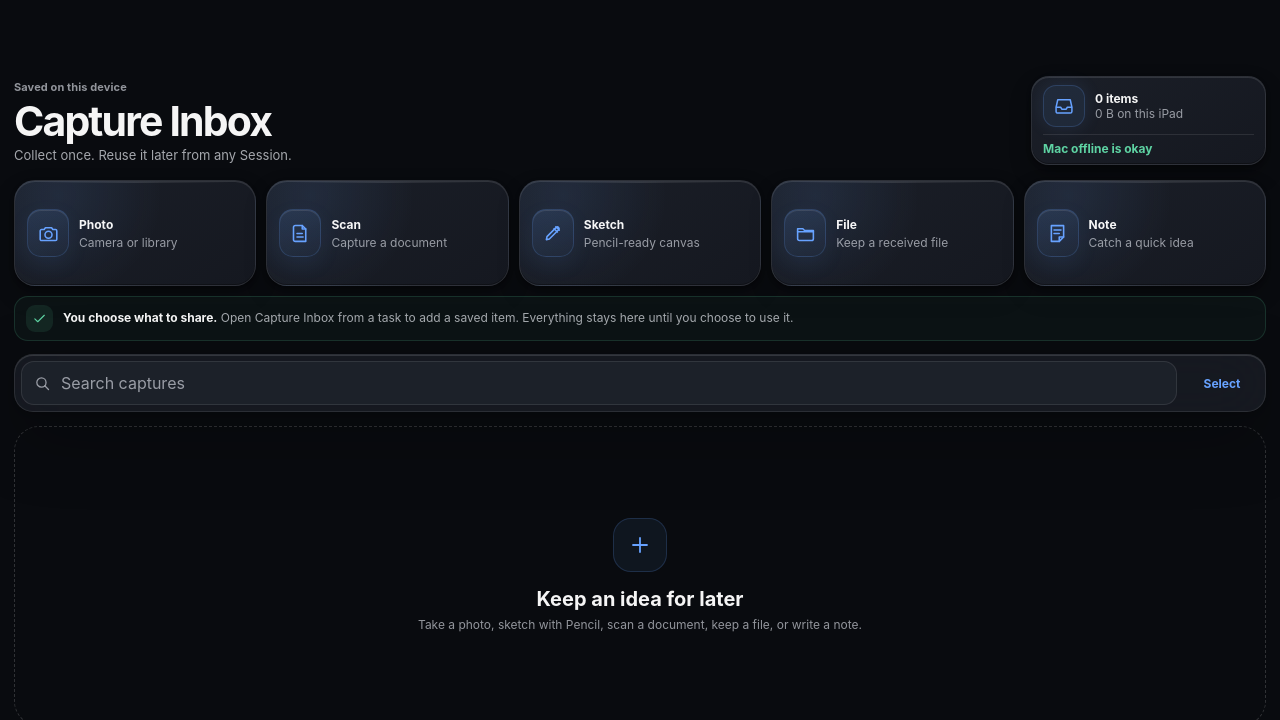
Test: CaptureInboxPage save recovery › shows a note save error inside the dialog and keeps the text for editing and retry
Click the button "Note Catch a quick idea". click: (1145, 233)
box: [1024,180,1266,286]
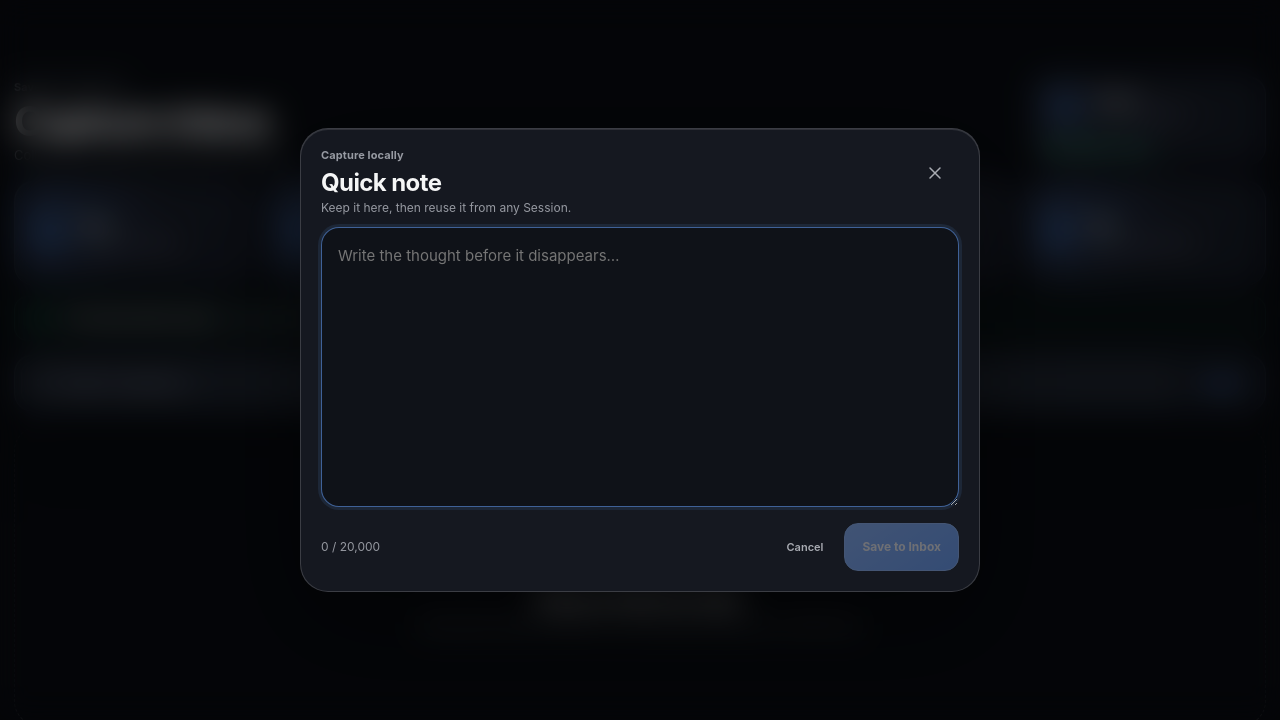
Type "Keep the onboarding comparison for tomorrow." into the text box named "Quick note text". click: (640, 367)
box: [321,227,959,507]
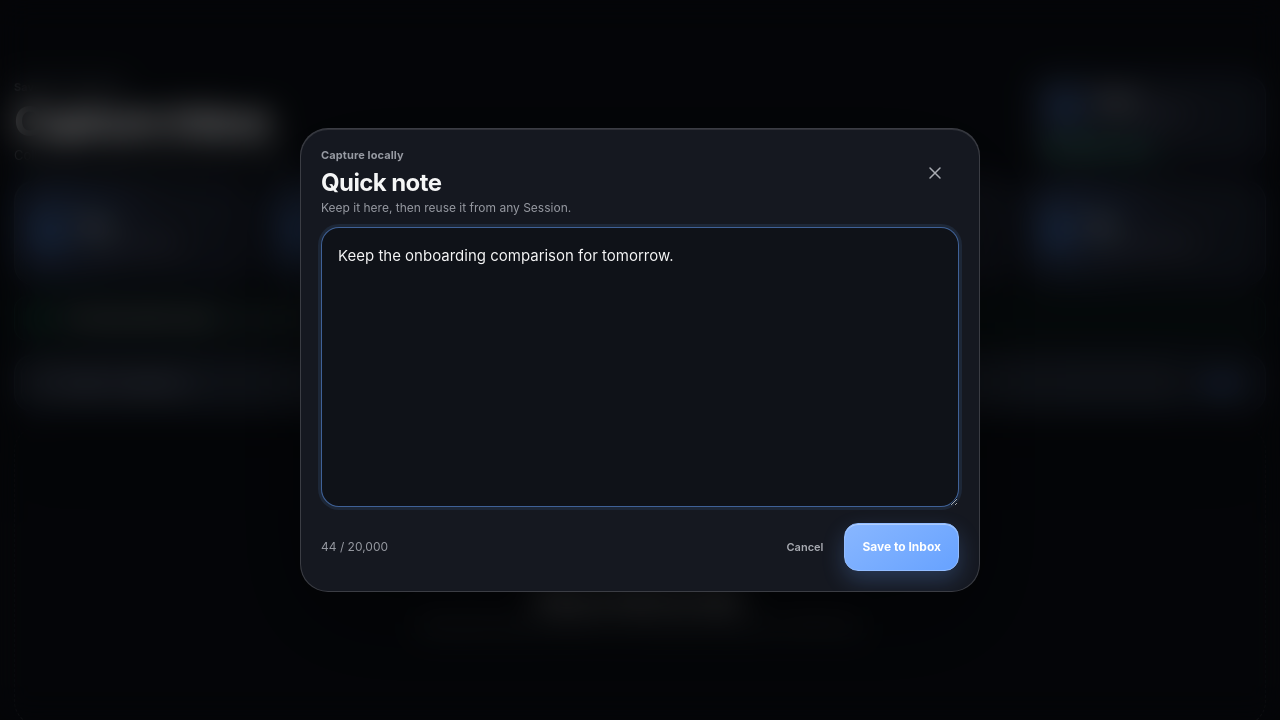
Click the button "Save to Inbox". click: (902, 547)
box: [844,523,959,571]
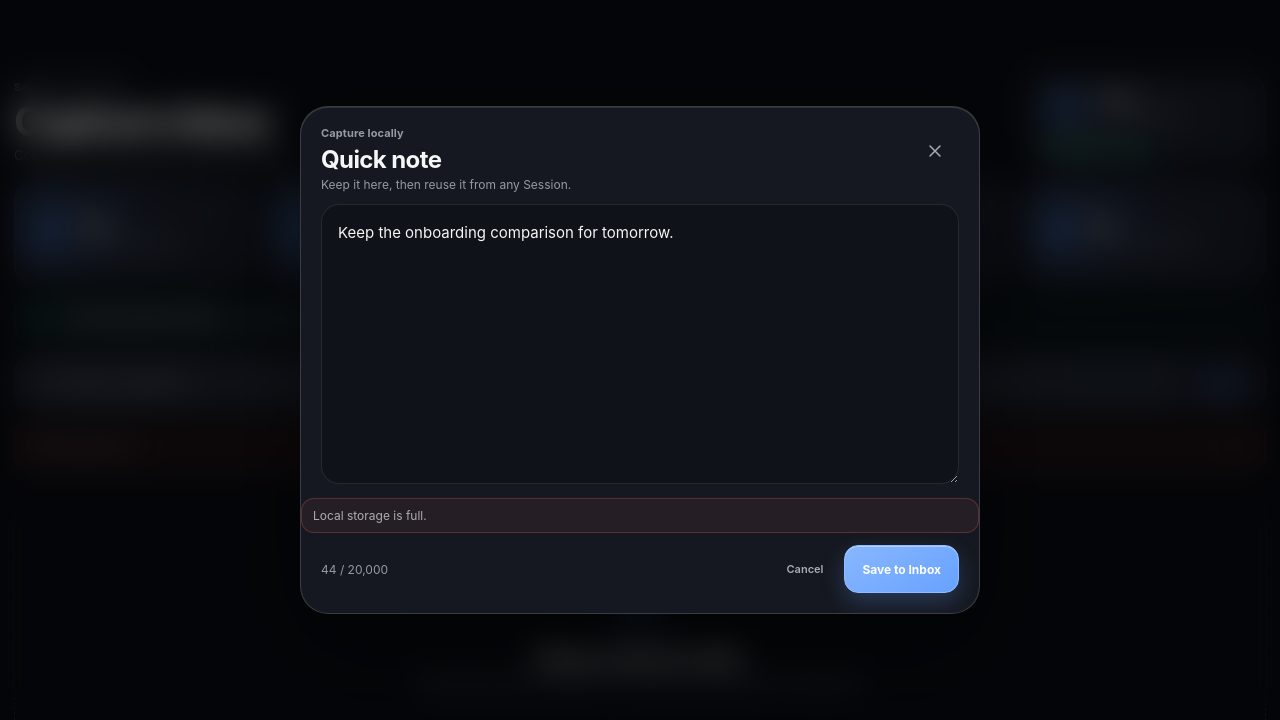
Check: the text box named "Quick note text" is enabled
Check: the message reads "Local storage is full.", box [313,508,427,523]
Replace the text in the text box named "Quick note text" with "Keep the revised onboarding comparison.". click: (640, 344)
box: [321,204,959,484]
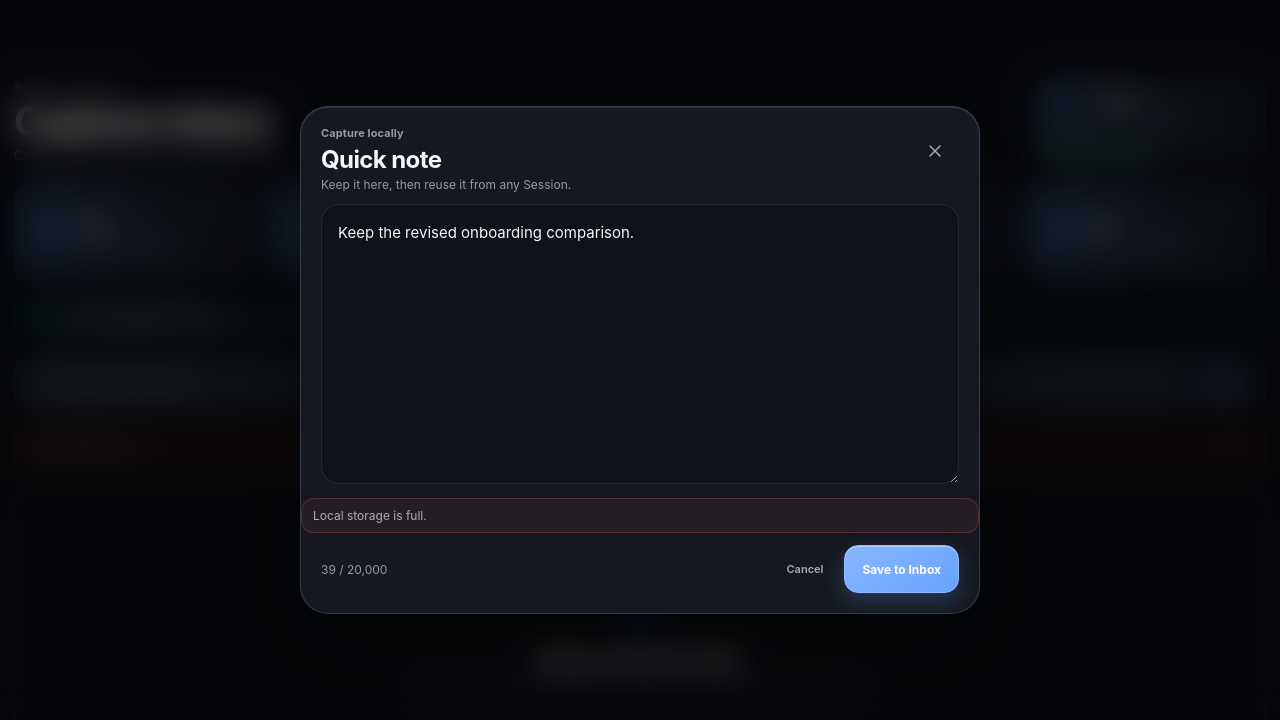
Click the button "Save to Inbox". click: (902, 569)
box: [844,545,959,593]
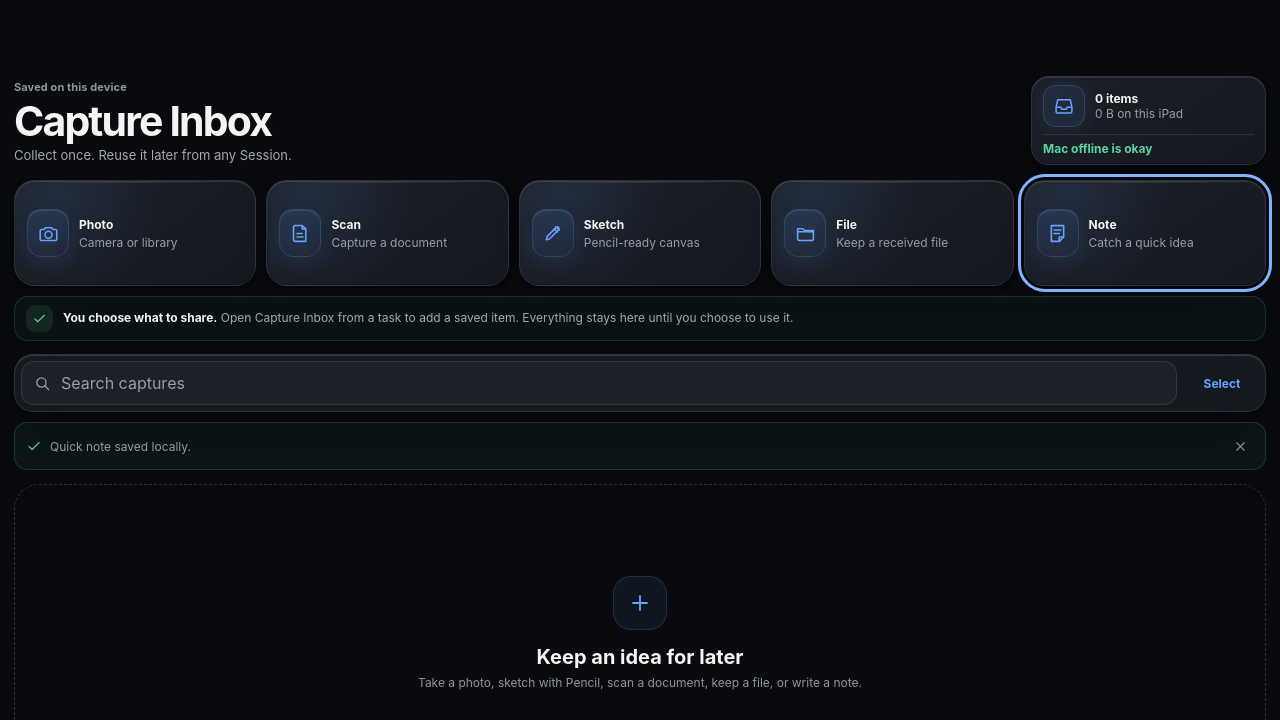
Check: the dialog is gone
Check: the message "Local storage is full." is gone
